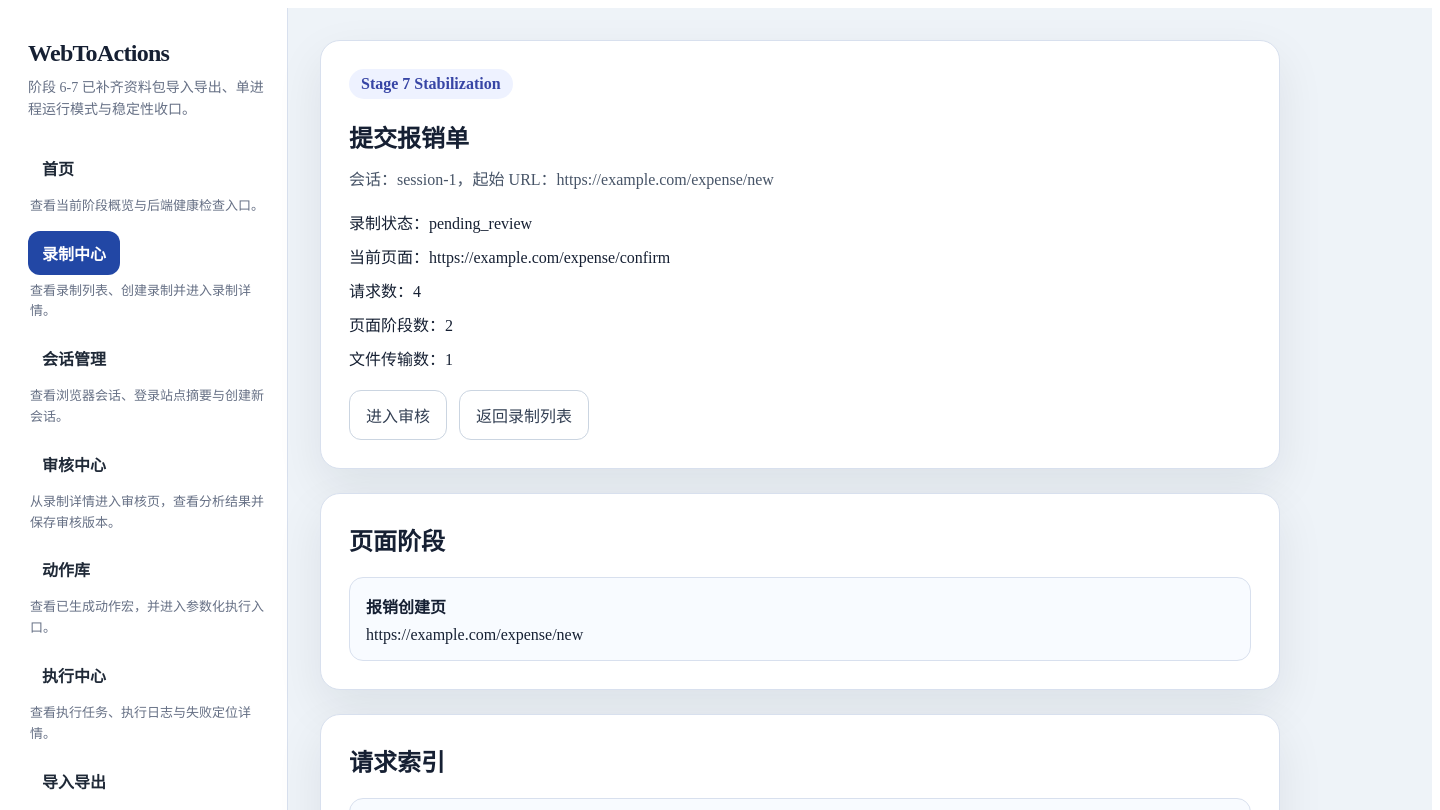
it: App › enters review from recording detail, waits for analysis stream, and saves review result
The image size is (1440, 810).
Click the link "进入审核" at (398, 415), box [349,390,447,440]
(page scrolled)
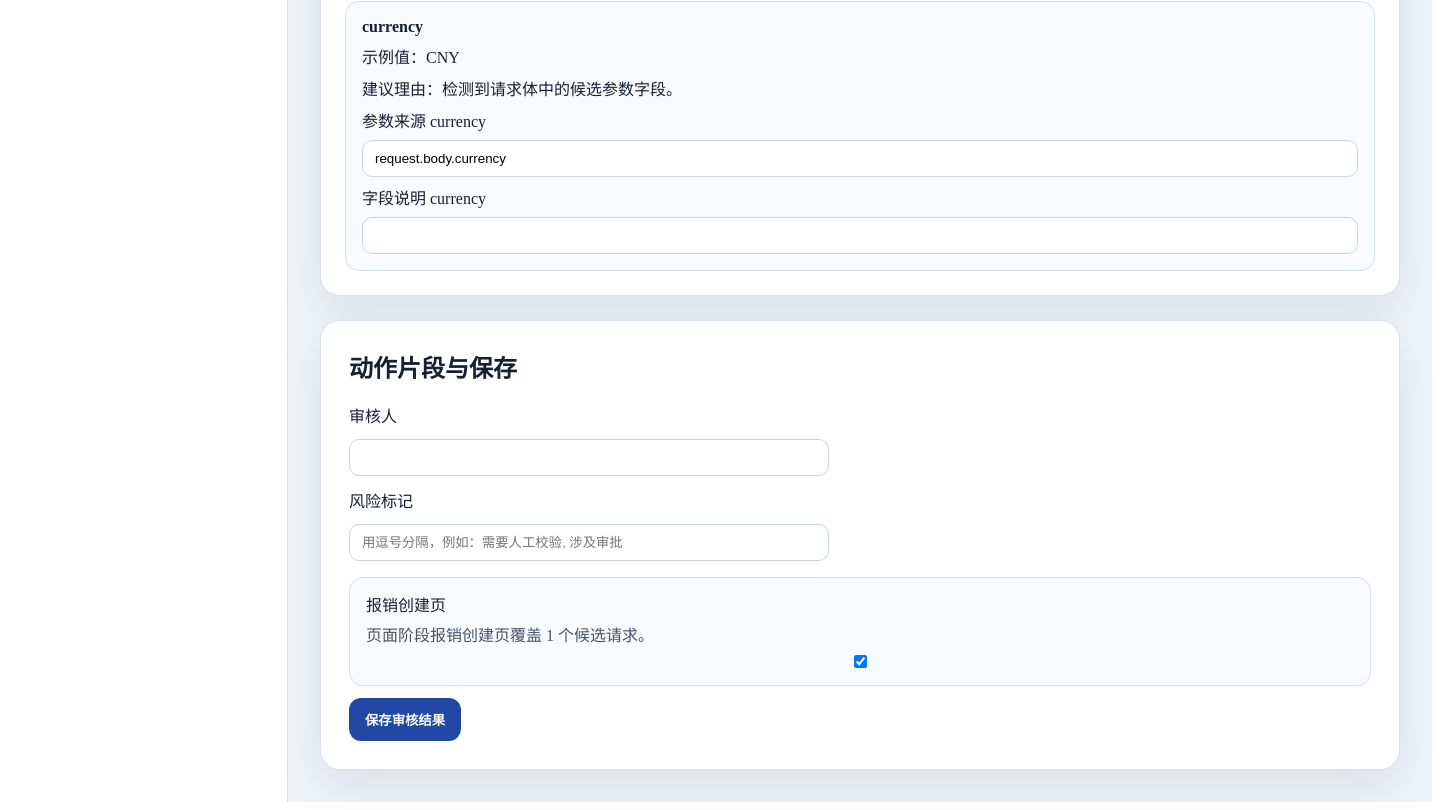
Type "alice" into the field labelled "审核人" at (589, 458), box [349,439,829,476]
(page scrolled)
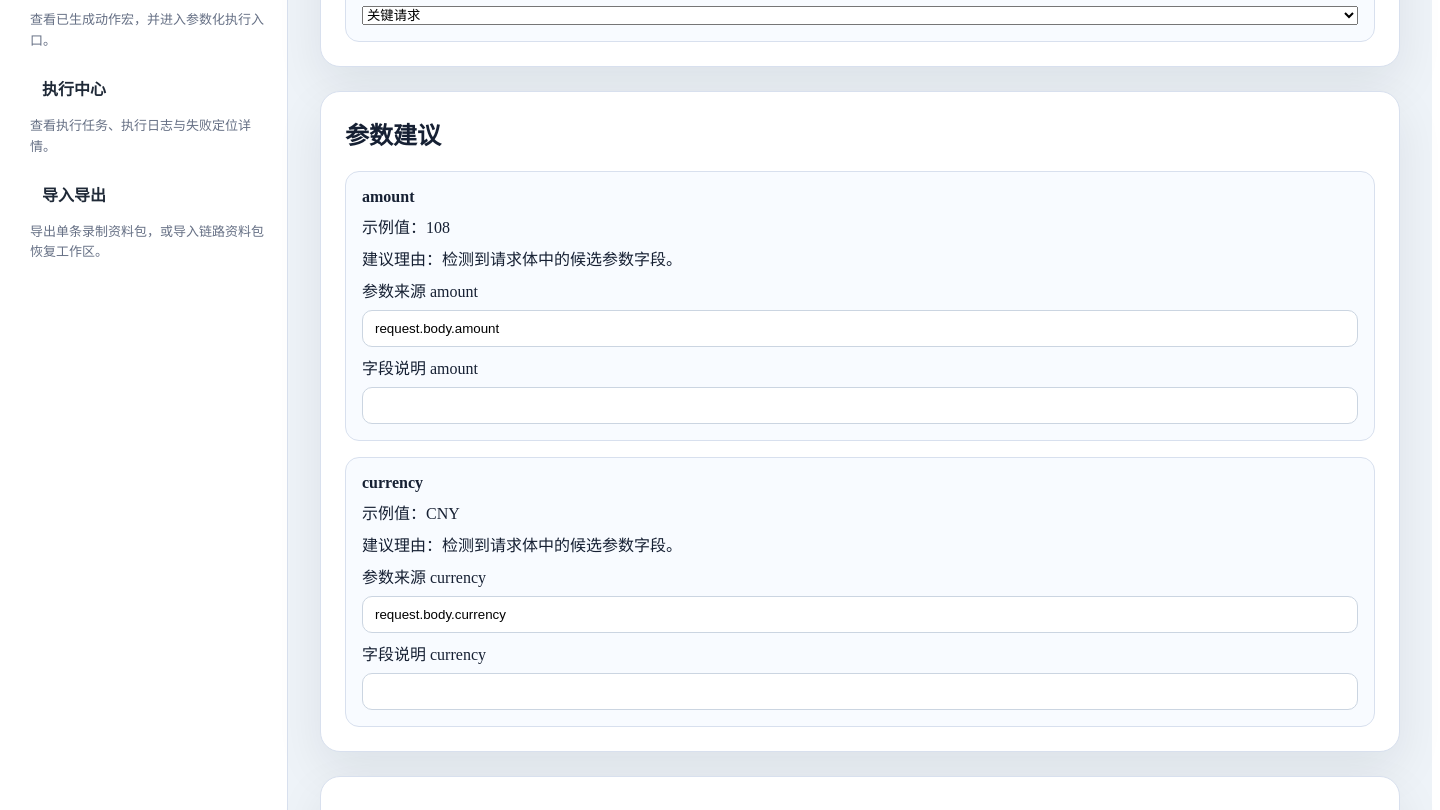
Type "报销金额" into the field labelled "字段说明 amount" at (860, 405), box [362,386,1358,424]
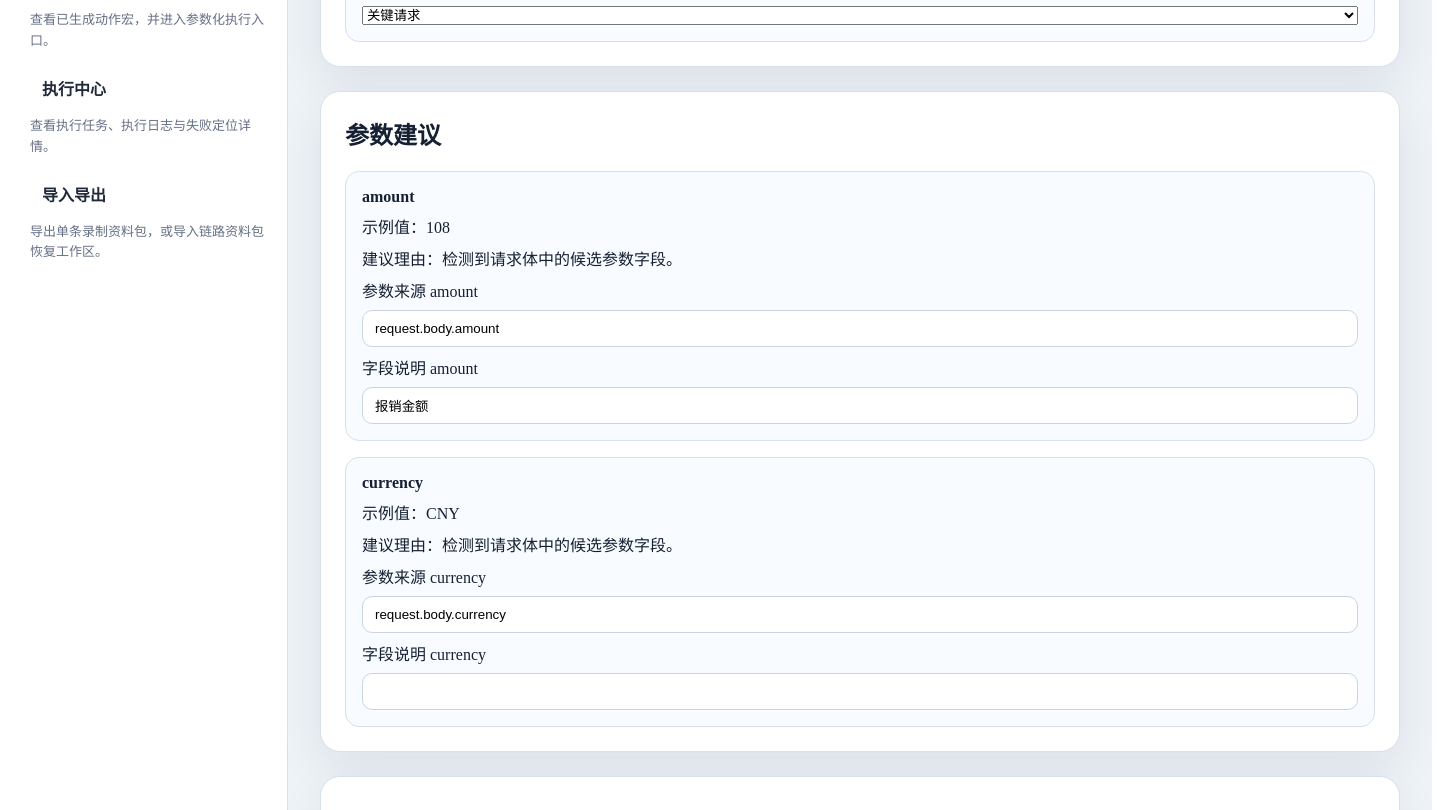
Type "币种" into the field labelled "字段说明 currency" at (860, 691), box [362,672,1358,710]
(page scrolled)
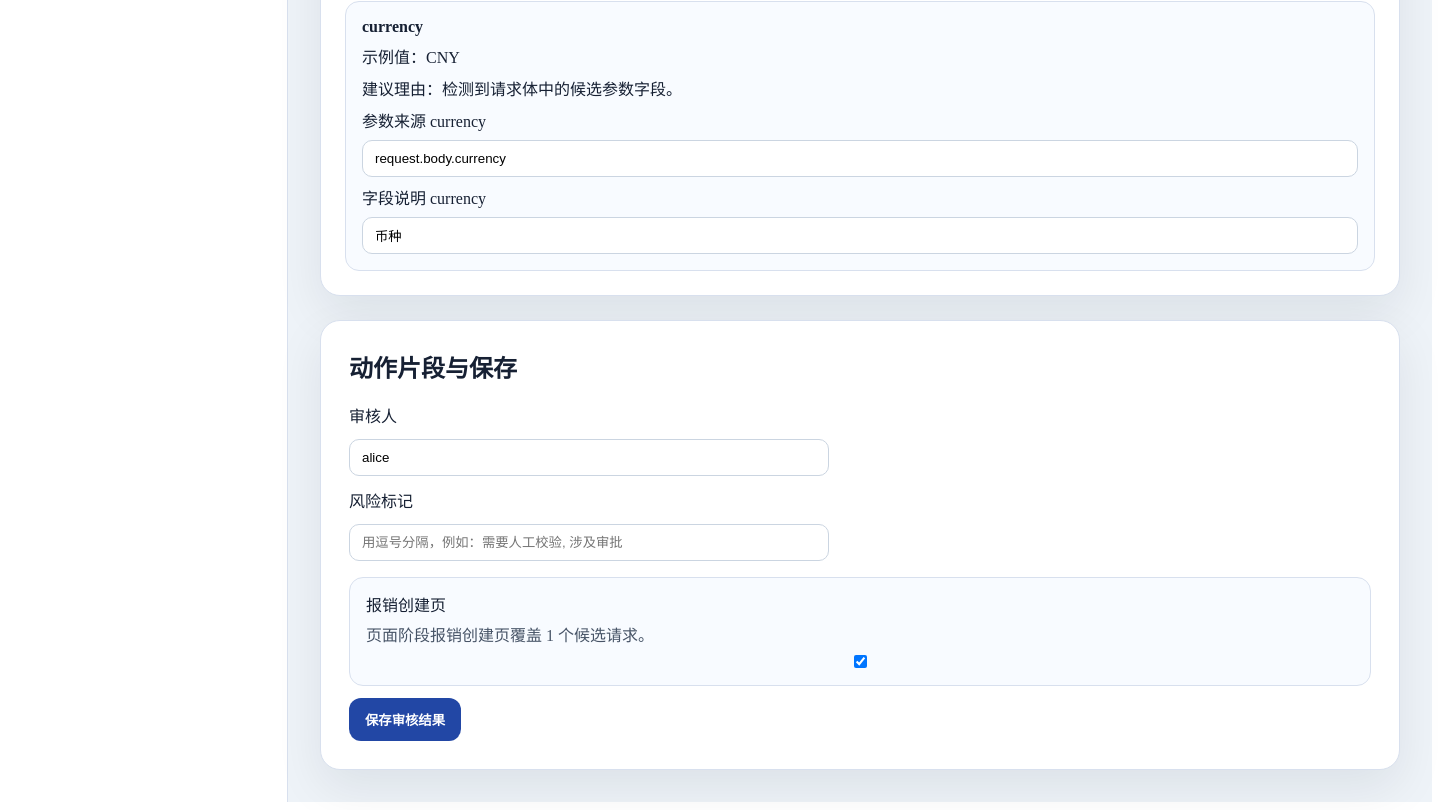
Click the button "保存审核结果" at (405, 720), box [349,698,461,741]
(page scrolled)
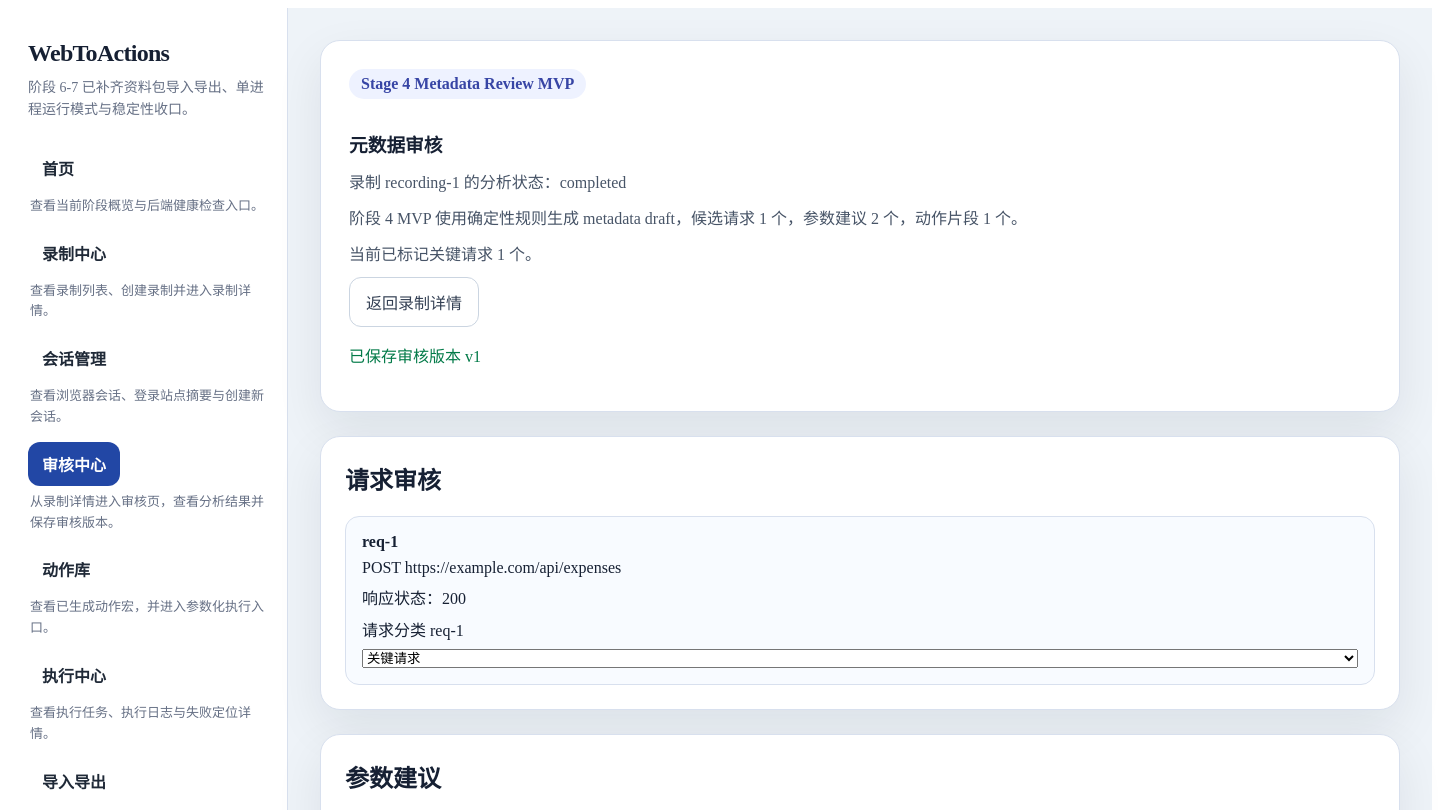
Now the text "已保存审核版本 v1" is shown, box [349,348,481,365]
